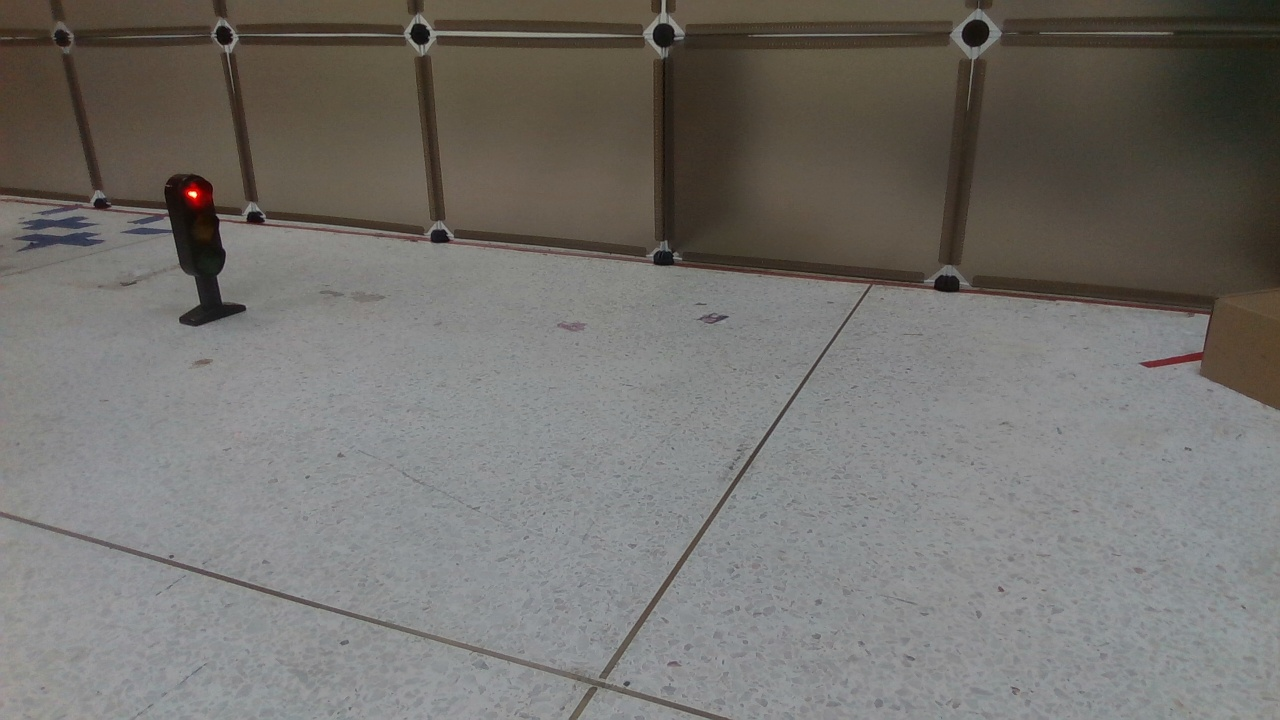Red traffic light: (160, 173, 249, 329)
